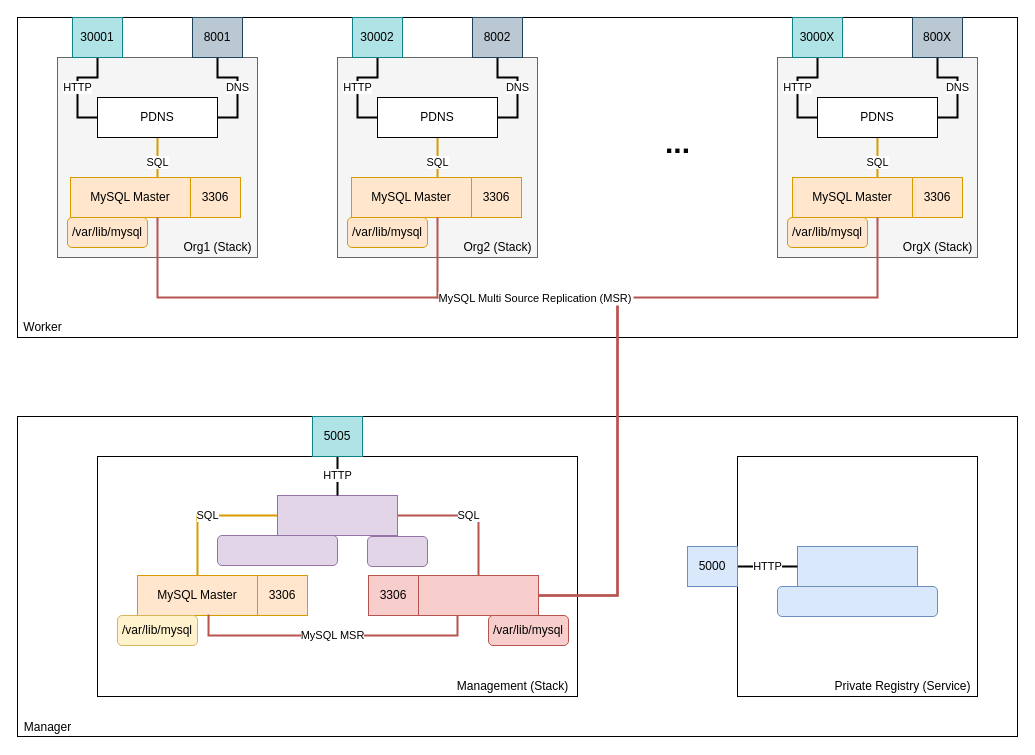
Some shapes in this 1035 by 755 pixel diagram are drawn without their labels. The shapes that lost their labels are listed below. From the top down, each one's centre as x and y in pixels, then its label:
At (337,515): "Flask API".
At (277,550): "/var/run/docker.sock".
At (397,551): "/data".
At (857,566): "Registry".
At (478,595): "MySQL Slave".
At (857,601): "/var/lib/docker/registry".
